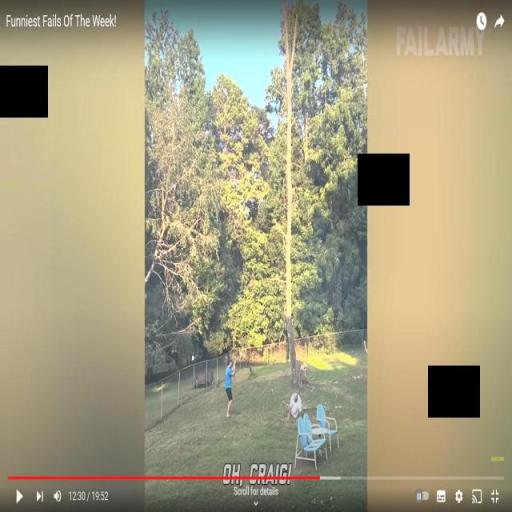Fall: (286, 391, 303, 422)
